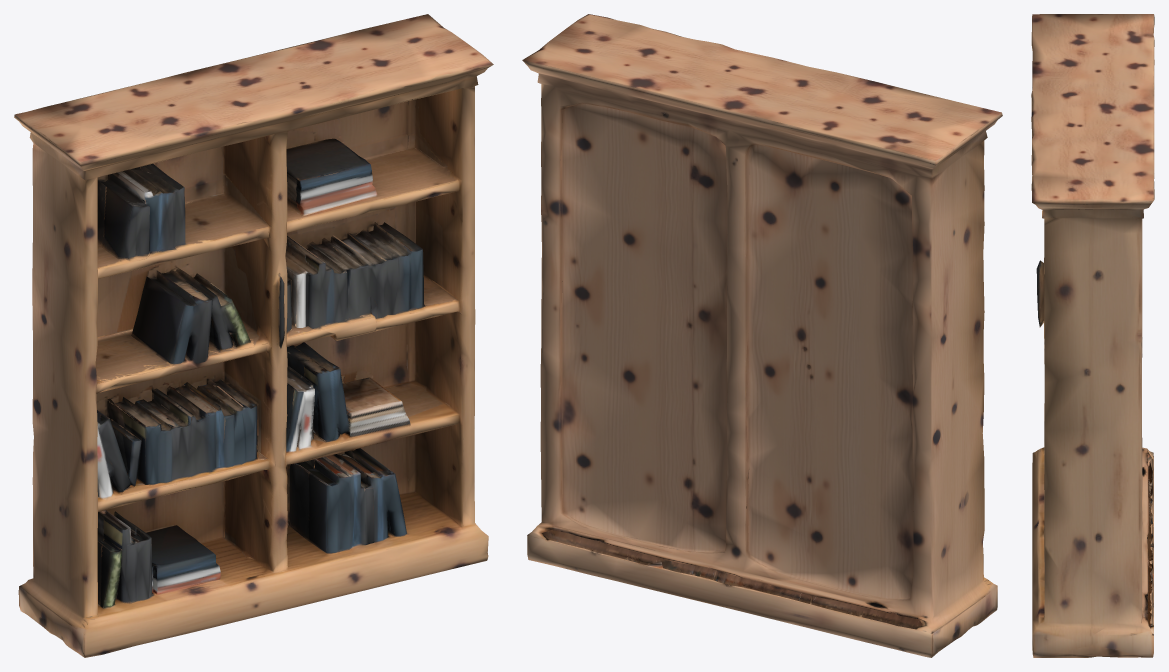
The model's file is shelf_2.glb.
3 renders of one model, left to right at view 1: azimuth 30°, elevation 25°; view 2: azimuth 150°, elevation 25°; view 3: azimuth 270°, elevation 25°, orthographic. The views are drawn at different scales.
Bounding box in the file's own units: 1.66 × 1.91 × 0.4644.
1 material, 1 textured.
